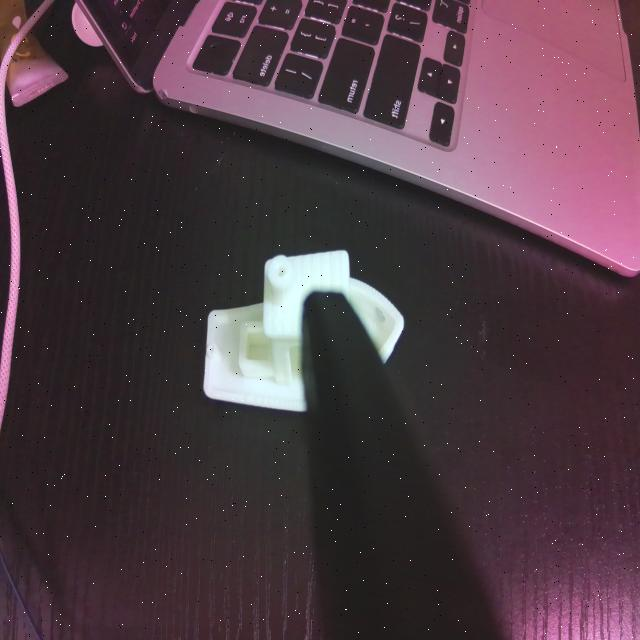ship: (202, 248, 405, 413)
